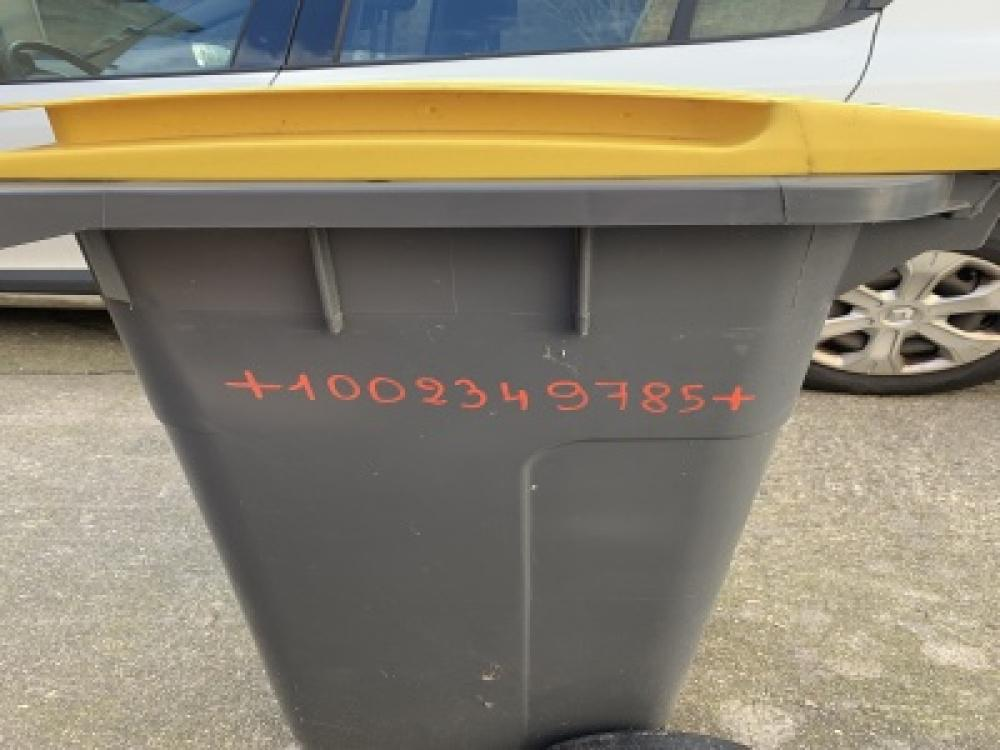+: (224, 368, 281, 400), (712, 383, 758, 410)
0: (368, 374, 406, 408), (327, 372, 361, 405)
1: (286, 372, 318, 403)
2: (416, 374, 448, 408)
3: (454, 380, 488, 414)
4: (496, 382, 530, 410)
5: (680, 381, 704, 416)
7: (594, 381, 632, 410)
8: (639, 381, 675, 418)
9: (548, 379, 590, 417)
